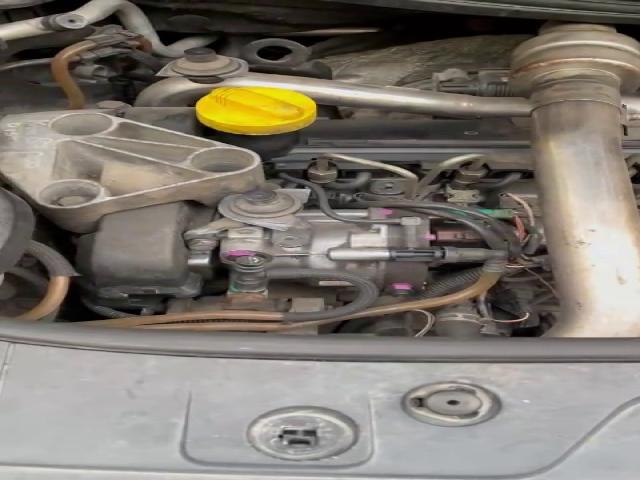high_pressure_pump: (139, 187, 492, 319)
